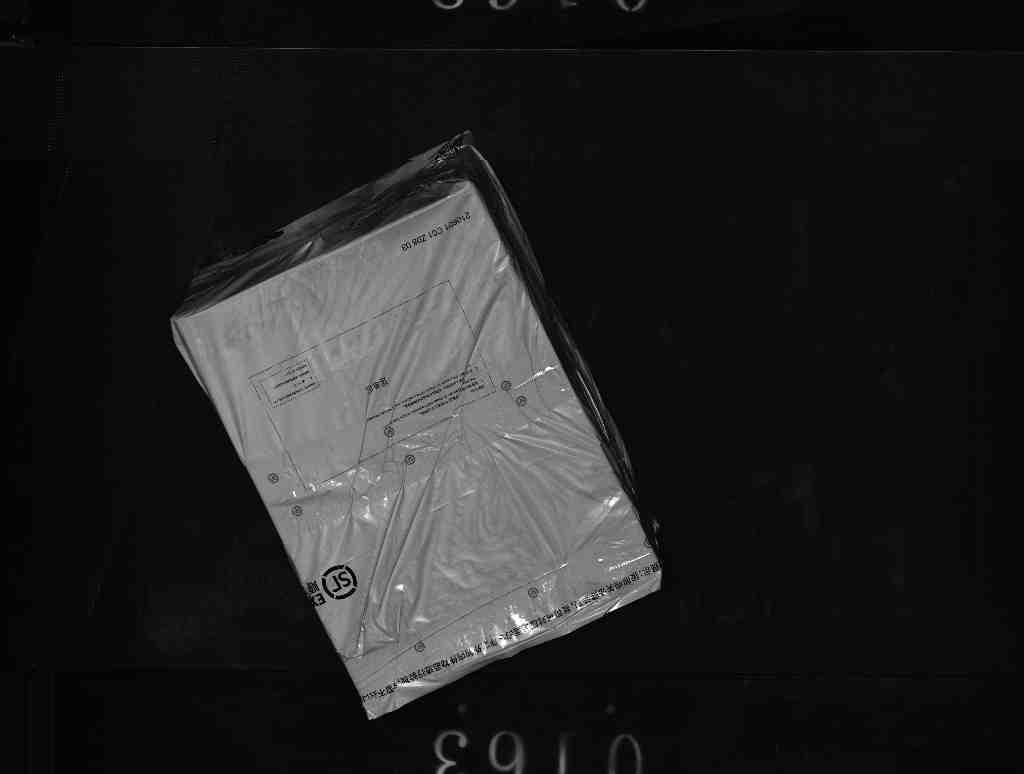box: (176, 148, 677, 712)
